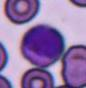L: (20, 24, 64, 68)
